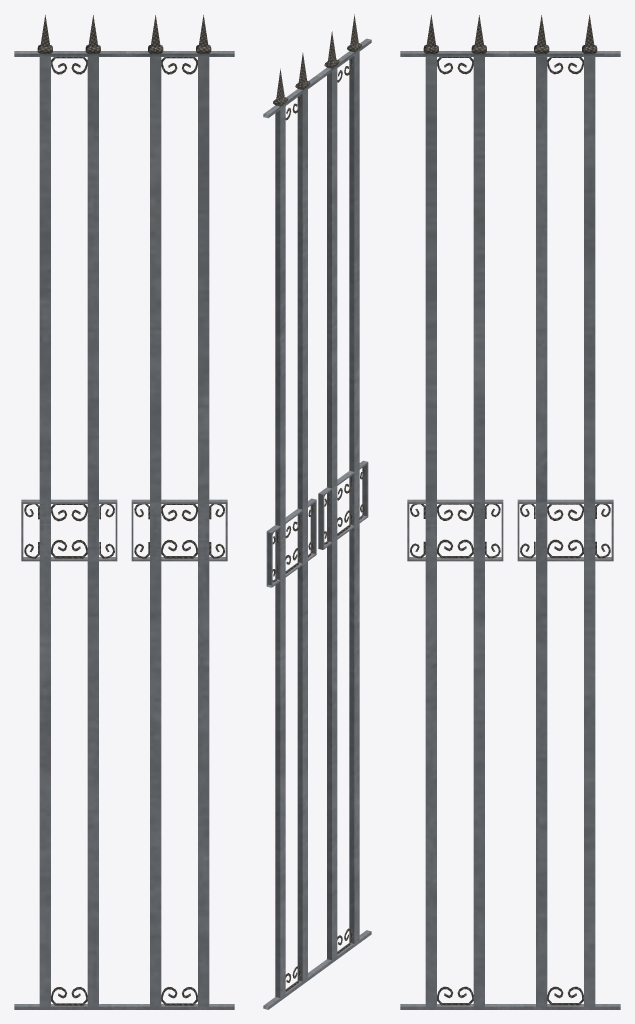
File: Fence.fbx
3 renders of one model, left to right at view 1: azimuth 90°, elevation 25°; view 2: azimuth 150°, elevation 25°; view 3: azimuth 270°, elevation 25°, orthographic. The views are drawn at different scales.
Visible parts, largest first — view 1: Box013; view 2: Box013; view 3: Box013.
Boxes of the visible parts, x1,y1,x2,y2 form: Box013: (14, 15, 234, 1009); Box013: (263, 14, 371, 1009); Box013: (400, 15, 620, 1009).
Bounding box in the file's own units: 2.76 × 299 × 60.
1 material, 1 textured.
